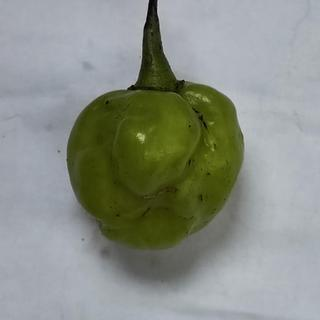Defect: (156, 183, 185, 198)
Fly-bites: (183, 155, 198, 170), (203, 168, 218, 182), (104, 97, 113, 108), (198, 193, 204, 201), (115, 212, 121, 219), (187, 123, 192, 128)
striped: (188, 105, 211, 133)
